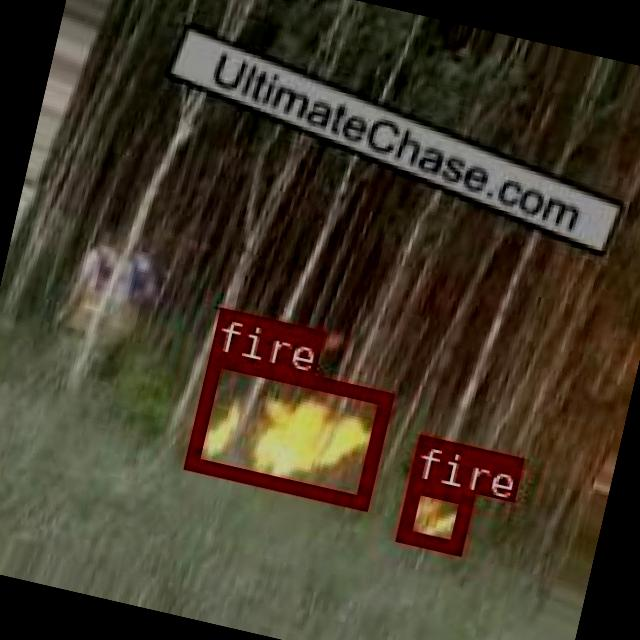fire: (181, 348, 390, 507), (394, 476, 472, 552)
